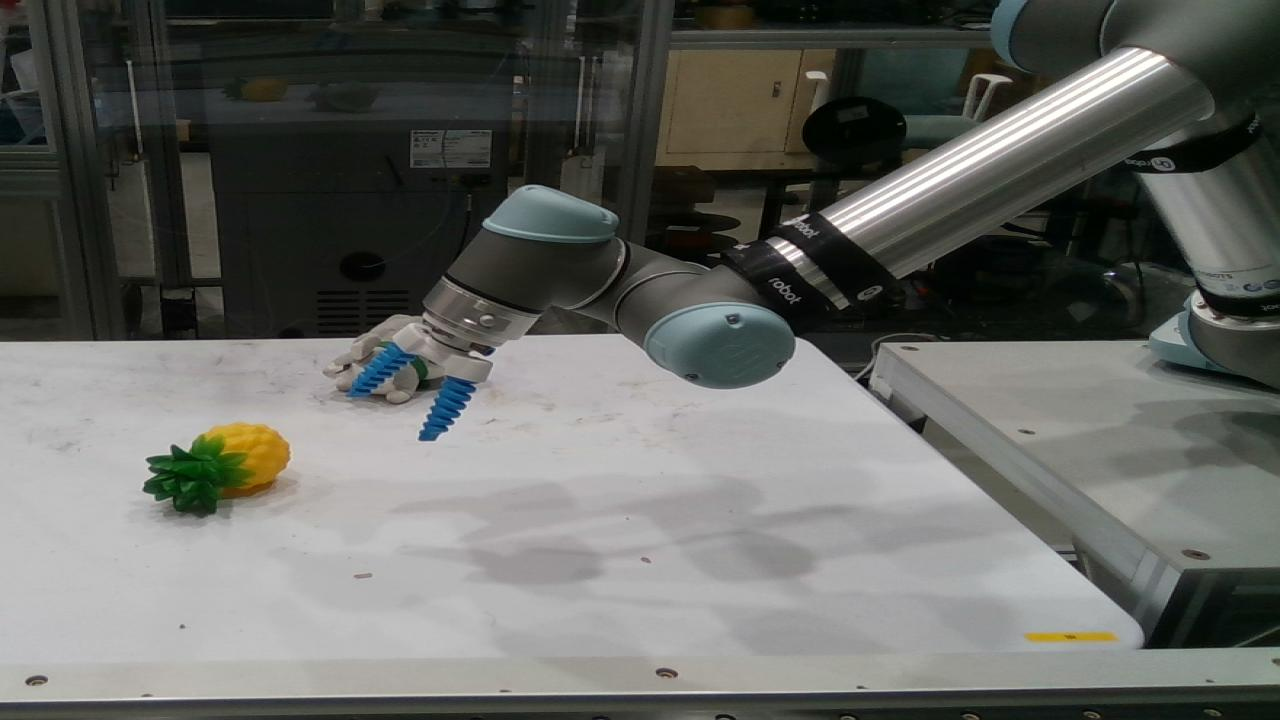UR5: (399, 0, 1279, 388)
gripper_left: (348, 342, 415, 396)
gripper_right: (424, 378, 472, 440)
target: (146, 424, 286, 513), (323, 315, 419, 390), (380, 350, 439, 403)
